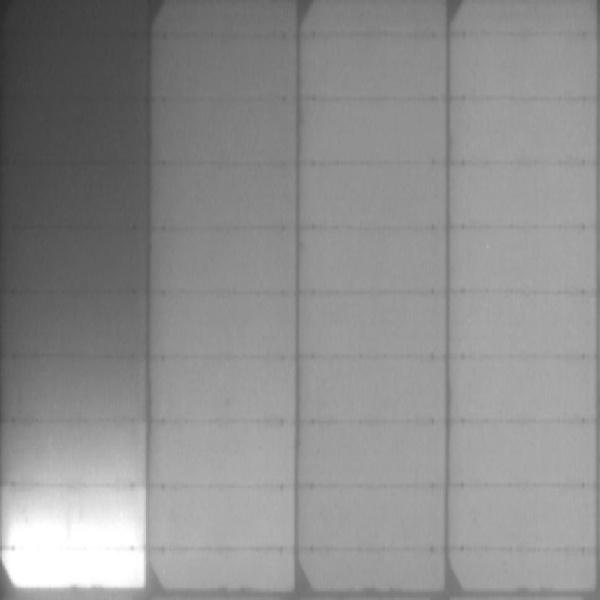hot_spot: (13, 552, 138, 586), (15, 525, 128, 549)
